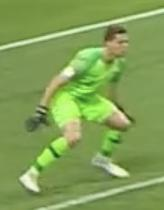goalkeeper: (10, 16, 143, 204)
